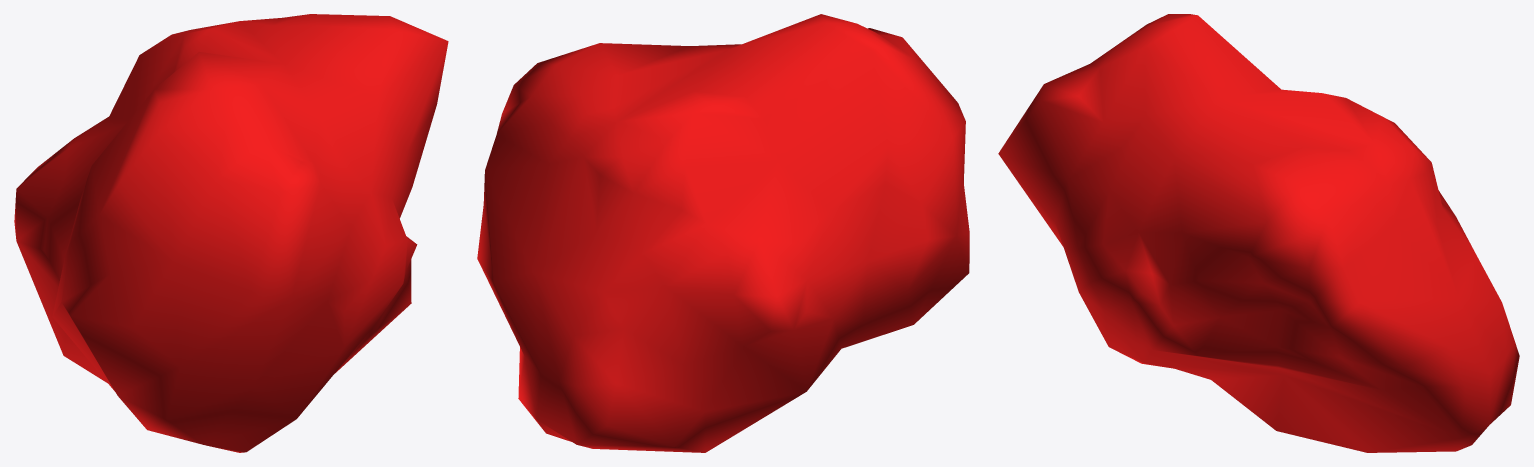
File: Rock_02.fbx
3 renders of one model, left to right at view 1: azimuth 30°, elevation 25°; view 2: azimuth 150°, elevation 25°; view 3: azimuth 270°, elevation 25°, orthographic. The views are drawn at different scales.
Parts seen in each view (by area): view 1: rock_2; view 2: rock_2; view 3: rock_2.
Boxes of the visible parts, x1,y1,x2,y2 form: rock_2: [14, 14, 448, 452]; rock_2: [477, 14, 969, 452]; rock_2: [998, 14, 1519, 452].
Bounding box in the file's own units: 430 × 387 × 476.
